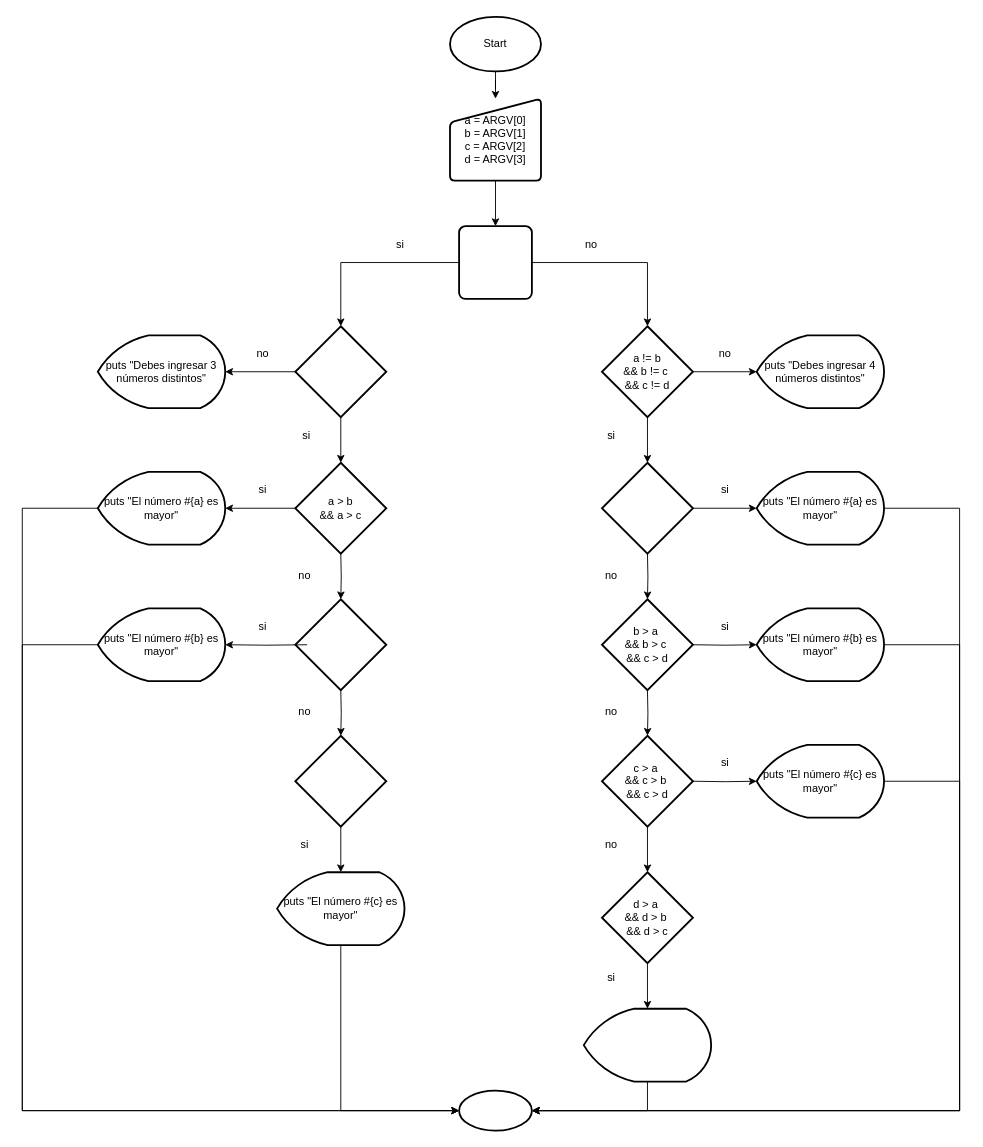
Some shapes in this 983 by 1147 pixel diagram are drawn without their labels. The shapes that lost their labels are listed below. From the top down, each one's box as (x1, y1, x2, y2) in pixels, then its label:
(458, 225, 532, 299): ARGV[3].nil?
(294, 325, 387, 418): a != b && b != c
(601, 461, 693, 554): a > b && a > c && a > d
(294, 598, 387, 691): b > a && b > c
(294, 734, 387, 827): c > a && c > b
(582, 1007, 712, 1082): puts "El número #{d} es mayor"
(458, 1089, 532, 1131): Fin
